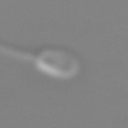normal: (1, 40, 38, 65)
